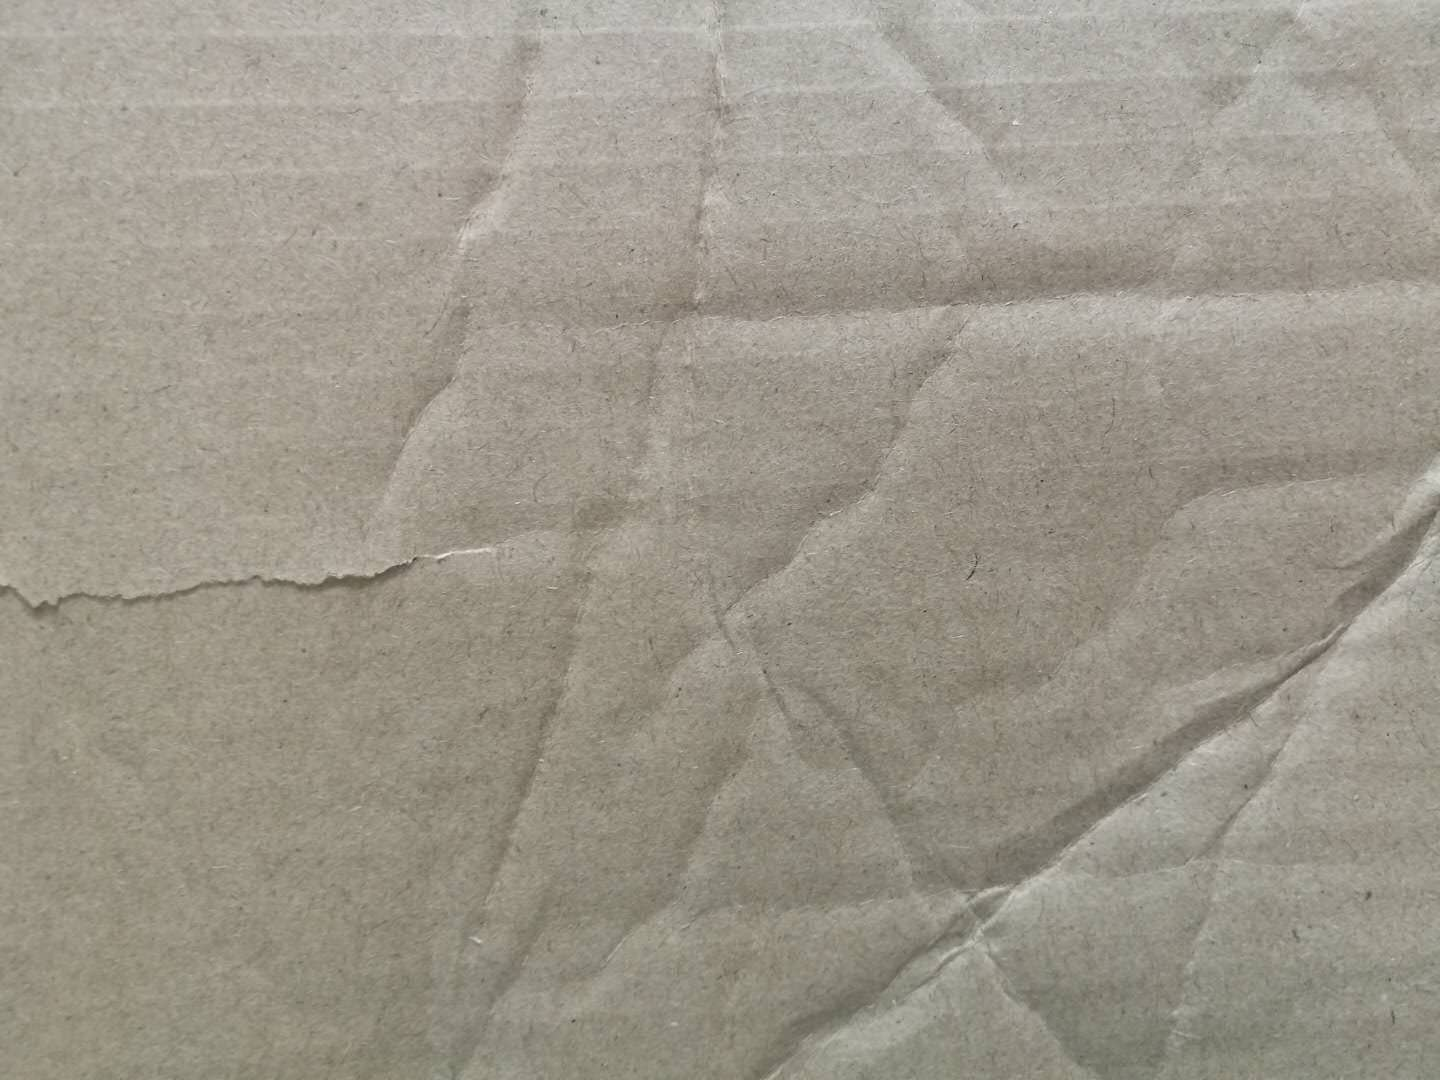defect: (715, 1, 1437, 1080), (344, 1, 748, 1080), (1, 487, 591, 648), (681, 247, 1440, 358)
